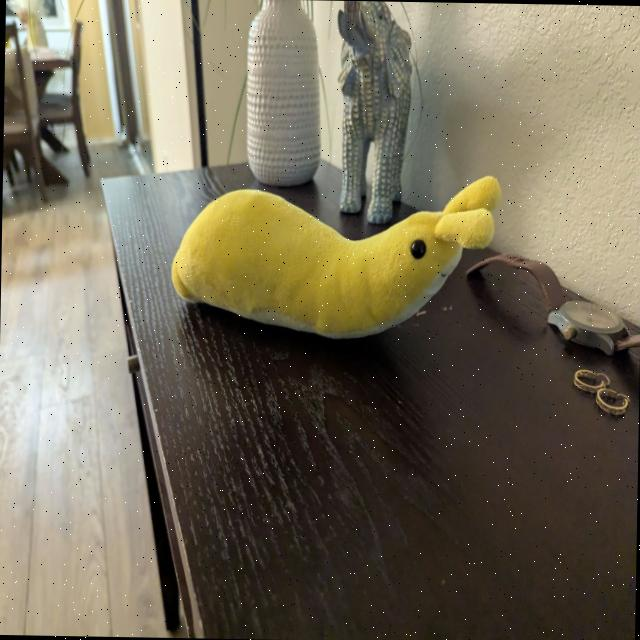banana-slug-toy: (164, 168, 506, 346)
